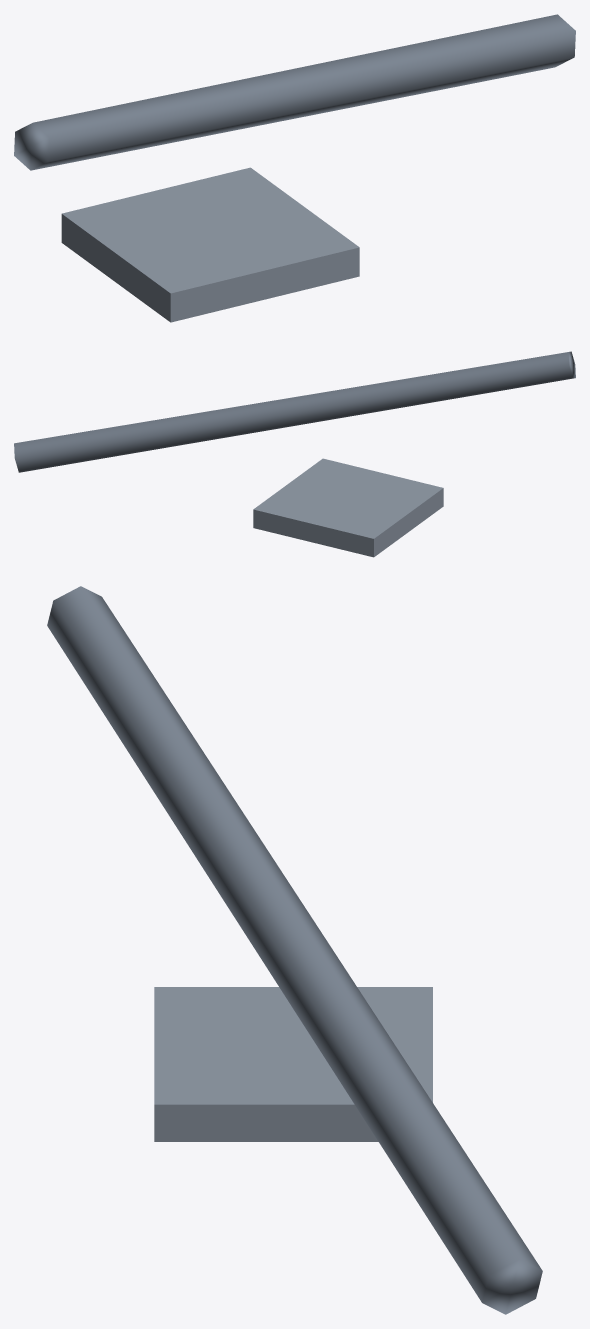
The model's file is flare-stack-wreck.glb.
3 views of the same model, one above another, from view 1: azimuth 30°, elevation 25°; view 2: azimuth 150°, elevation 25°; view 3: azimuth 270°, elevation 25° (orthographic). The views are drawn at different scales.
Parts seen in each view (by area): view 1: Root; view 2: Root; view 3: Root.
Part boxes in pixels (bbox=[...]): Root: bbox=[14, 14, 575, 322]; Root: bbox=[14, 351, 575, 557]; Root: bbox=[47, 586, 542, 1314].
Size of the model in its own units: 12.88 by 4.5 by 6.05.
